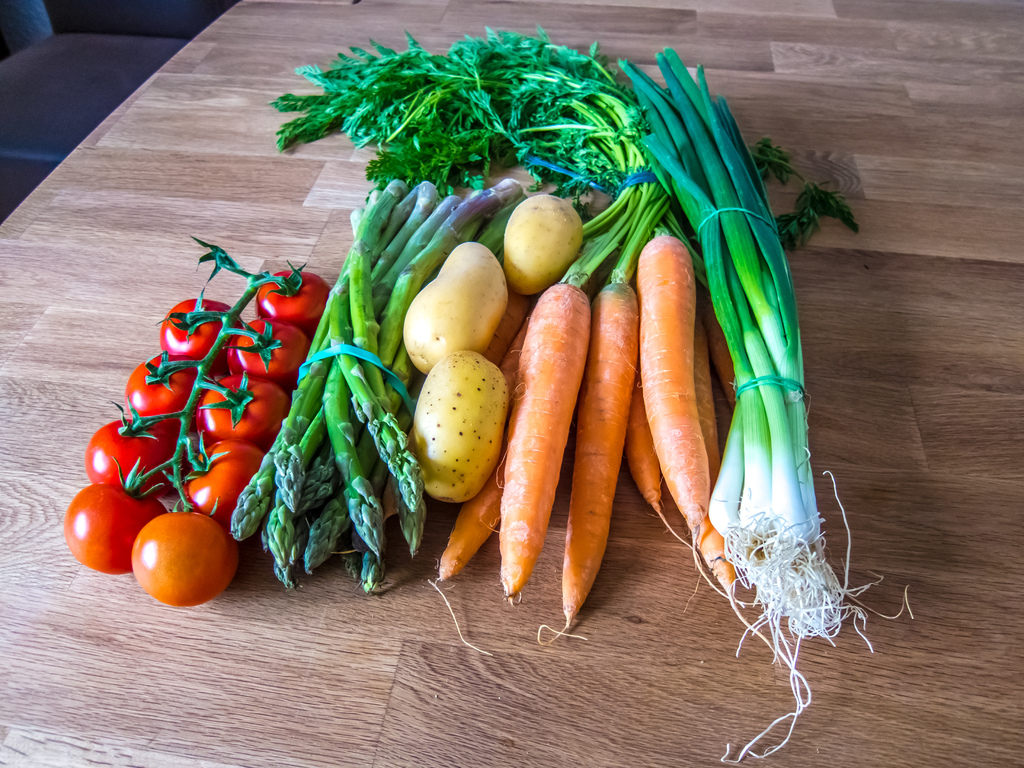Carrot: (437, 229, 741, 638)
